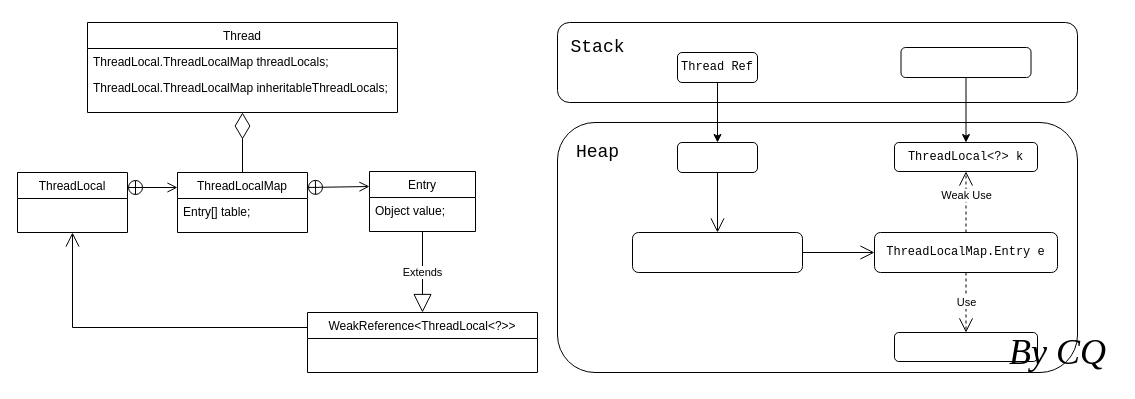
Some shapes in this 1135 by 399 pixel diagram are drawn without their labels. The centre of each missing label's shape, as x and y in pixels:
"Object v" goes at (966,347).
"Thread t" goes at (717,157).
"ThreadLocal Ref" goes at (965,62).
"ThreadLocalMap map" goes at (717,252).
